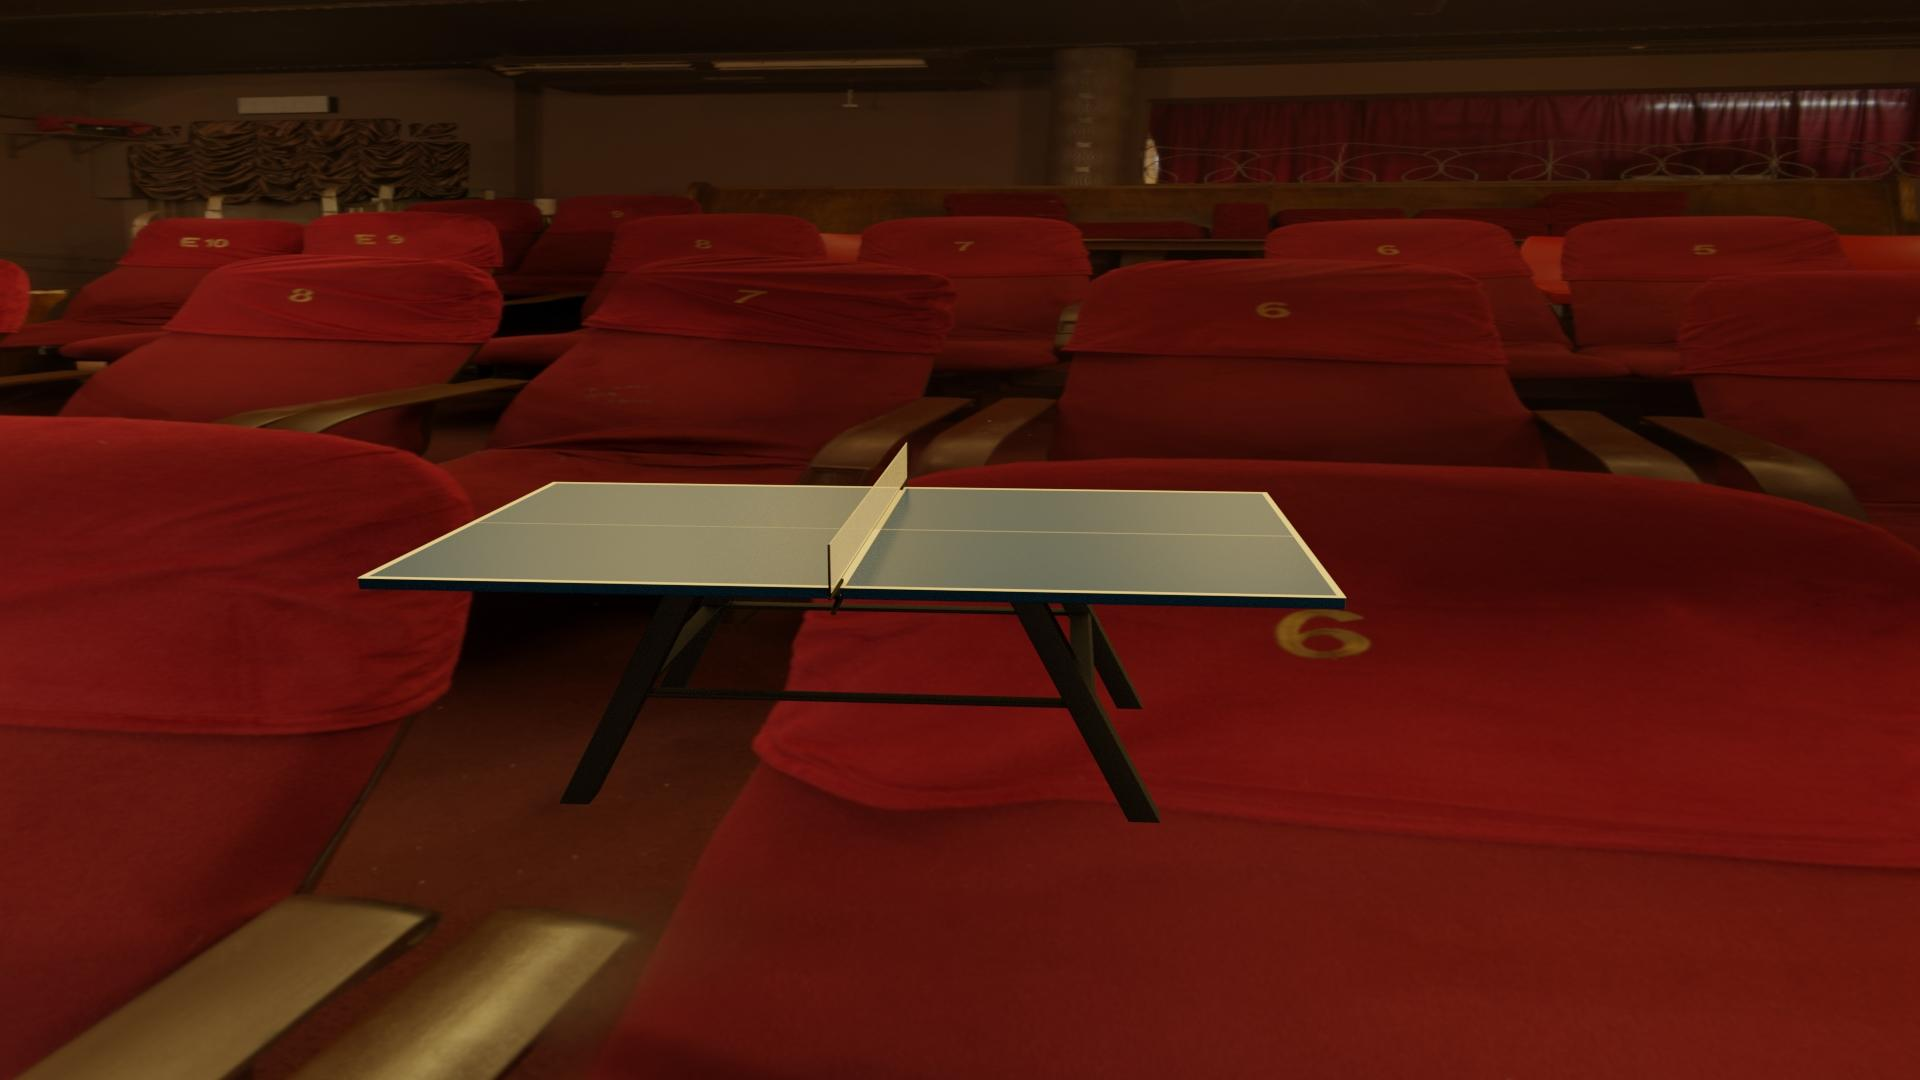table: (368, 483, 1337, 596)
